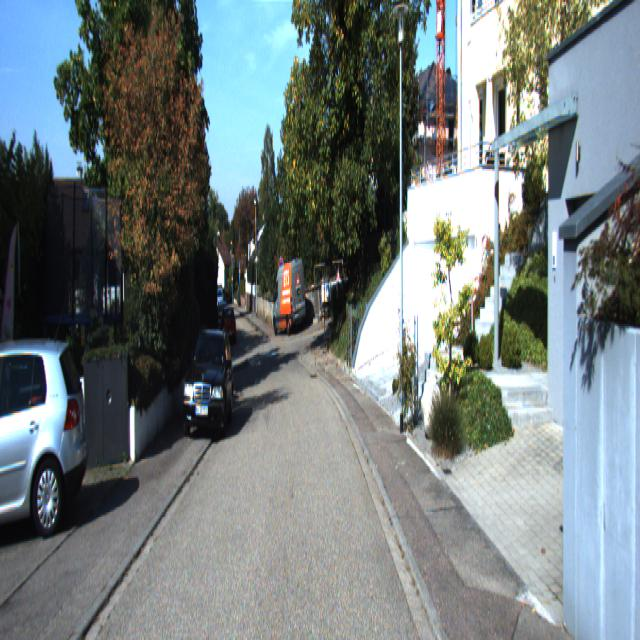Car: (0, 330, 97, 546), (181, 322, 236, 438), (272, 258, 308, 336)
